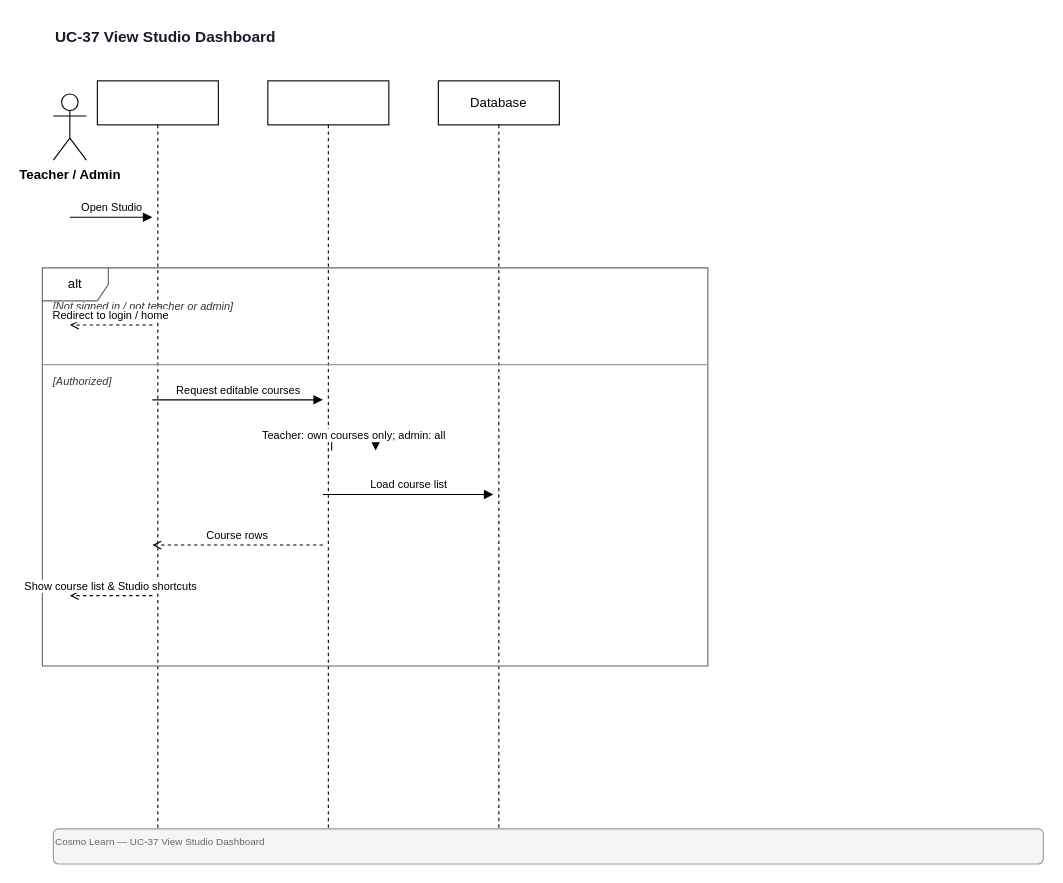
Image size: 1063x883. Some labels were removed from this diagram. Each missing label, with the box of its shape:
API Server (Courses): (267, 80, 389, 831)
Web UI (Studio): (96, 80, 218, 831)
